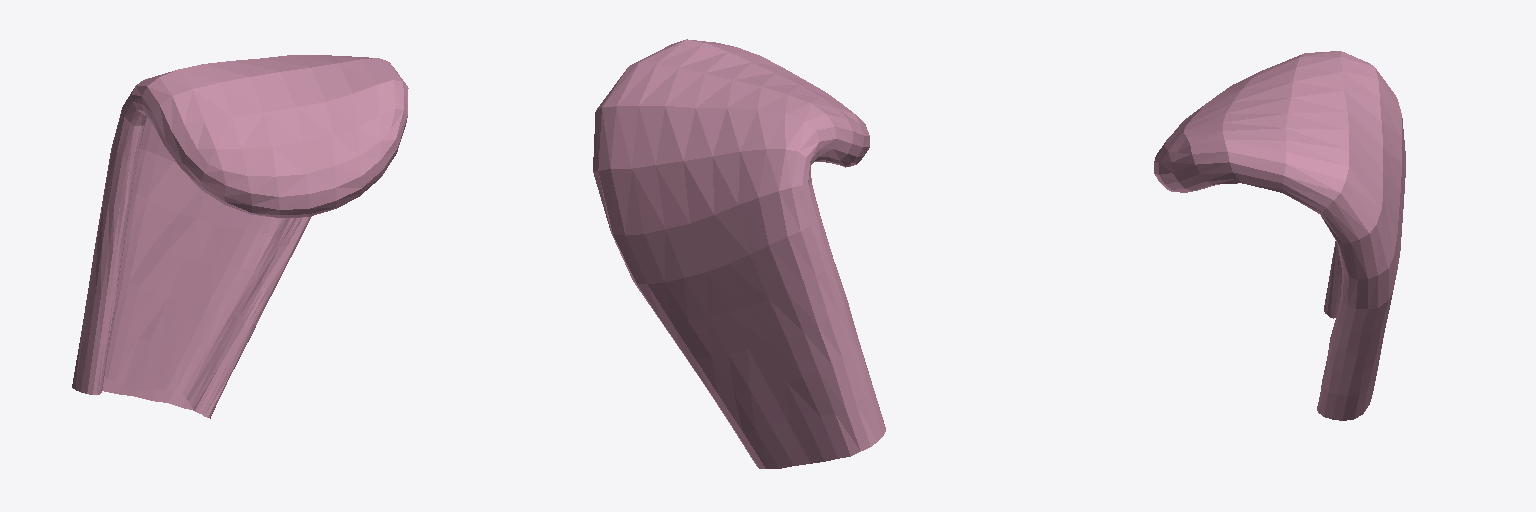
The model's file is oreille_droite.obj.
3 views of the same model, side by side, from view 1: azimuth 30°, elevation 25°; view 2: azimuth 150°, elevation 25°; view 3: azimuth 270°, elevation 25° (orthographic).
Parts seen in each view (by area): view 1: Tete; view 2: Tete; view 3: Tete.
Part boxes in pixels (x1,y1,x2,y2): Tete: (72, 55, 408, 418); Tete: (593, 39, 885, 468); Tete: (1154, 51, 1405, 420).
Size of the model in its own units: 1.96 by 2.27 by 1.47.